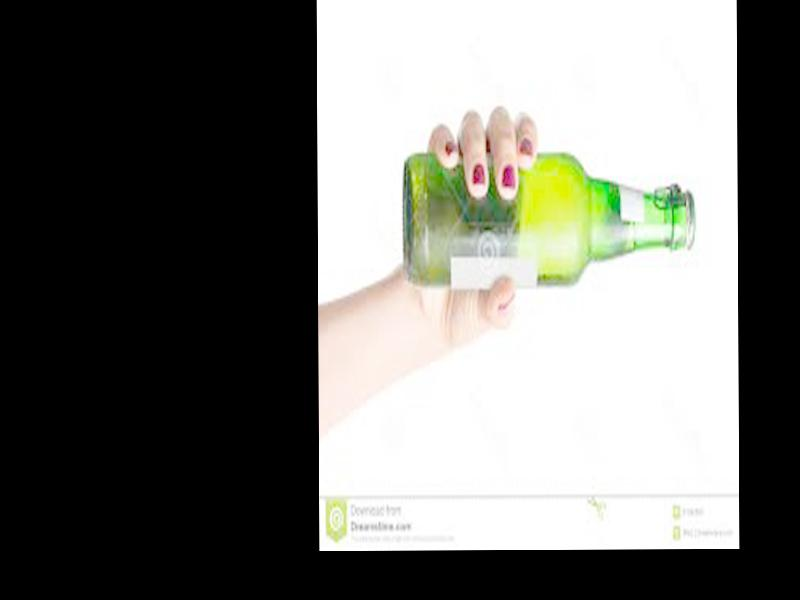Beer: (403, 143, 696, 292)
